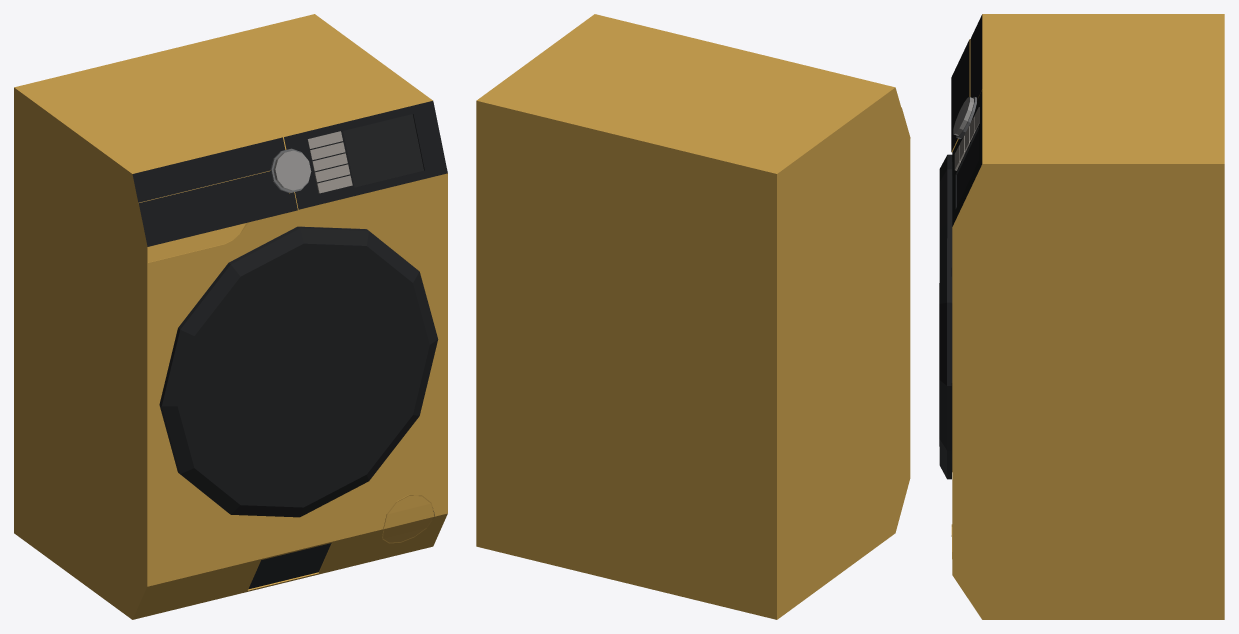
File: washingmachinemodern_01_D.gltf
3 views of the same model, side by side, from view 1: azimuth 30°, elevation 25°; view 2: azimuth 150°, elevation 25°; view 3: azimuth 270°, elevation 25° (orthographic). The views are drawn at different scales.
Visible parts, largest first — view 1: washingmachinemodern_01_D, Doorforwashingmachinemodern_01_D, Shelfforwashingmachinemodern_01_D, Hatchforwashingmachinemodern_01_D, Switchforwashingmachinemodern_01_D; view 2: washingmachinemodern_01_D; view 3: washingmachinemodern_01_D, Doorforwashingmachinemodern_01_D, Shelfforwashingmachinemodern_01_D, Switchforwashingmachinemodern_01_D.
Boxes of the visible parts, x1,y1,x2,y2 form: washingmachinemodern_01_D: [14, 14, 447, 619]; Doorforwashingmachinemodern_01_D: [159, 226, 438, 517]; Shelfforwashingmachinemodern_01_D: [138, 170, 297, 246]; Hatchforwashingmachinemodern_01_D: [382, 495, 434, 543]; Switchforwashingmachinemodern_01_D: [273, 150, 311, 190]; washingmachinemodern_01_D: [476, 14, 910, 619]; washingmachinemodern_01_D: [952, 14, 1224, 619]; Doorforwashingmachinemodern_01_D: [939, 154, 952, 479]; Shelfforwashingmachinemodern_01_D: [951, 39, 970, 152]; Switchforwashingmachinemodern_01_D: [953, 97, 973, 135].
Bounding box in the file's own units: 0.6 × 0.85 × 0.4818.
Materials: 1 (1 with a texture image).
